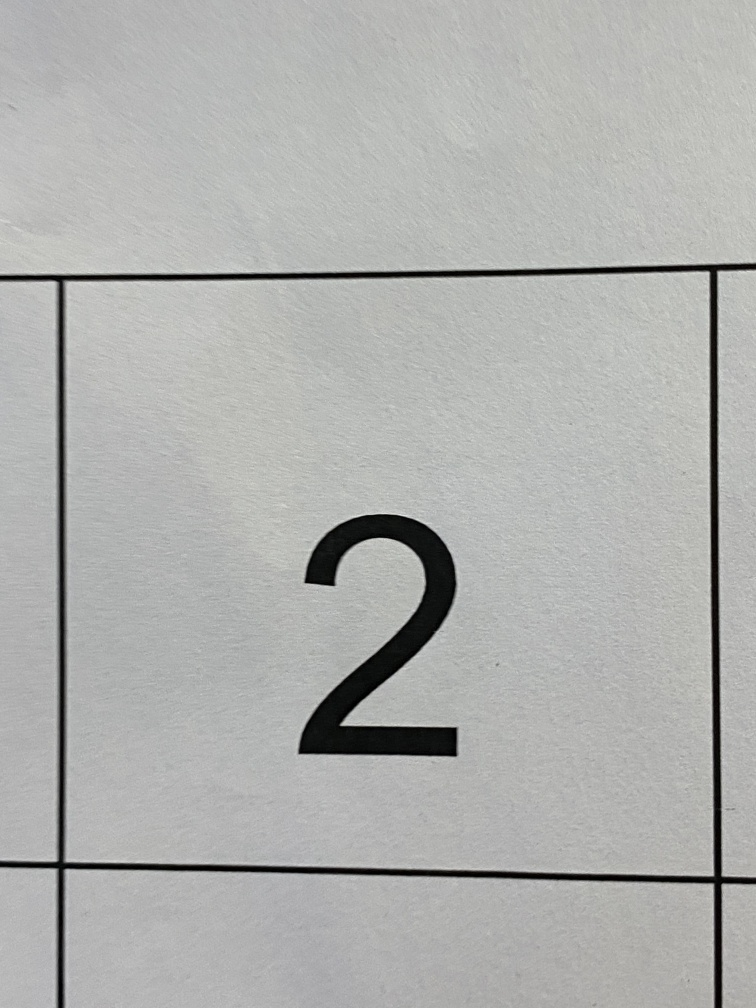two: (262, 476, 519, 826)
